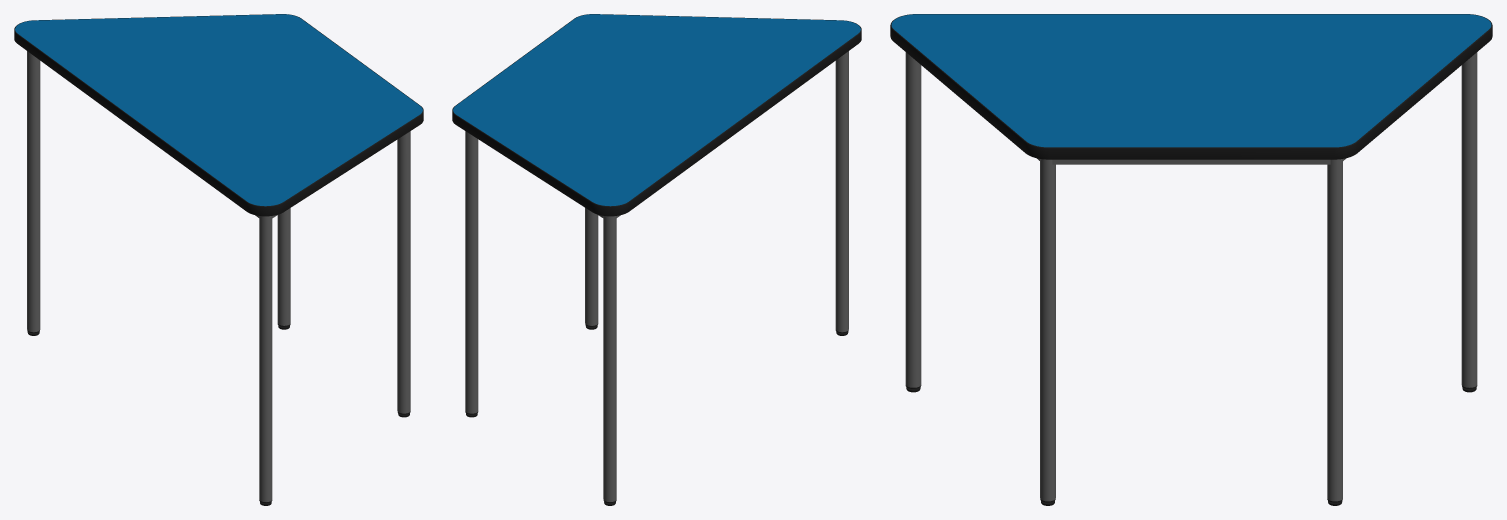
The model's file is Trapazium table.FBX.
3 views of the same model, side by side, from view 1: azimuth 30°, elevation 25°; view 2: azimuth 150°, elevation 25°; view 3: azimuth 270°, elevation 25° (orthographic). The views are drawn at different scales.
Visible parts, largest first — view 1: Object015, Object017, Object014; view 2: Object015, Object017, Object014; view 3: Object015, Object017, Object014, 0.005.
Boxes of the visible parts, left/top/right/bottom form: Object015: left=15, top=14, right=422, bottom=206; Object017: left=27, top=51, right=410, bottom=501; Object014: left=14, top=14, right=423, bottom=216; Object015: left=453, top=14, right=860, bottom=206; Object017: left=465, top=51, right=848, bottom=501; Object014: left=452, top=14, right=861, bottom=216; Object015: left=891, top=14, right=1491, bottom=147; Object017: left=905, top=52, right=1477, bottom=501; Object014: left=890, top=14, right=1492, bottom=159; 0.005: left=1052, top=159, right=1330, bottom=164.
Bounding box in the file's own units: 600 × 763 × 1138.
